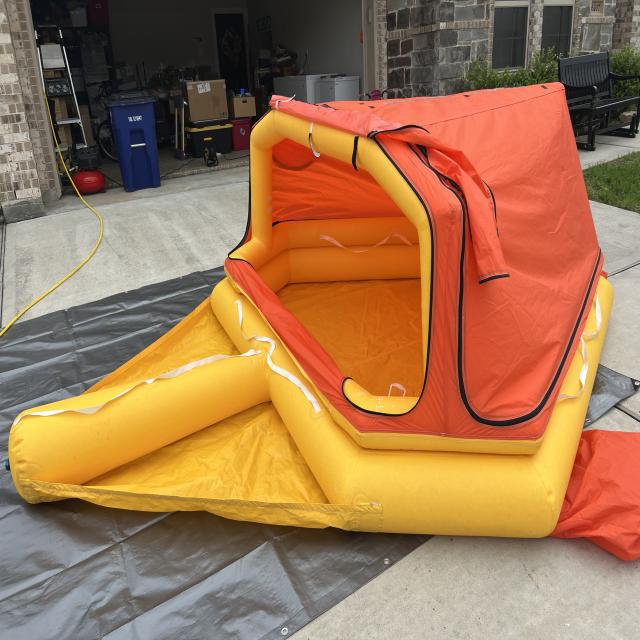Multi-person_life_raft: (7, 80, 640, 564)
